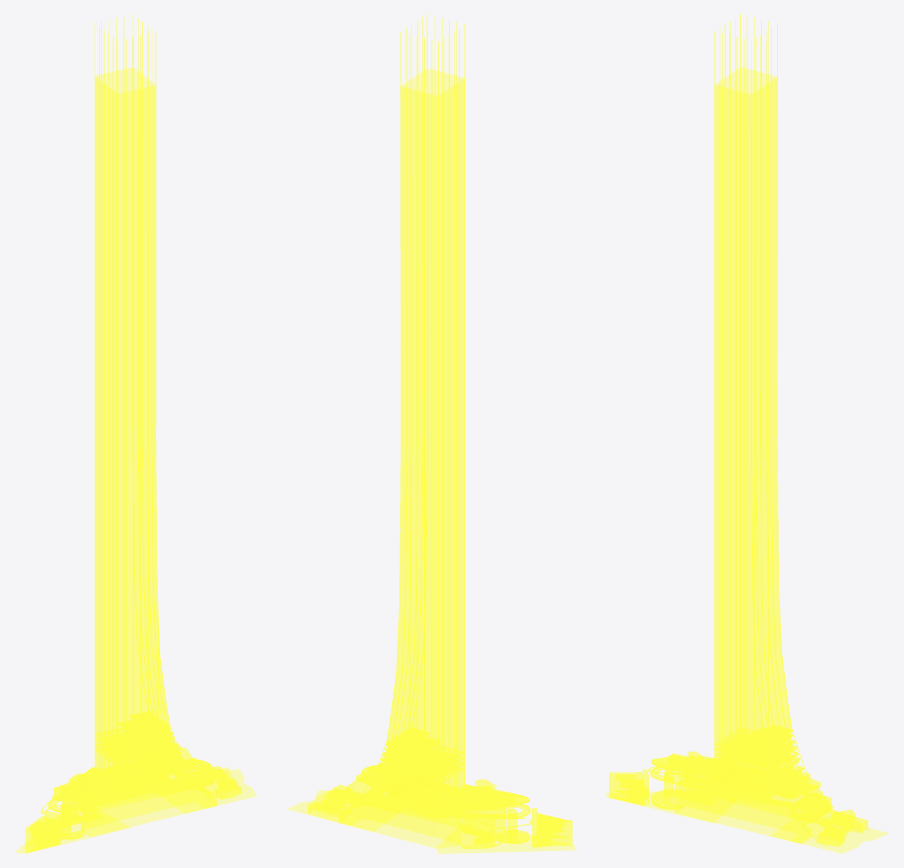
File: SennaTowerRetopo.glb
3 views of the same model, side by side, from view 1: azimuth 30°, elevation 25°; view 2: azimuth 150°, elevation 25°; view 3: azimuth 330°, elevation 25° (orthographic). The views are drawn at different scales.
Parts seen in each view (by area): view 1: Predio_Principal, GradesCurvadas, Cascada_Blocos, MD_Torre_Vigas, Chao, Chão_Topo, Kart, Final_Triangulo, Frente, Sacadas, Rampa; view 2: Predio_Principal, GradesCurvadas, Cascada_Blocos, MD_Torre_Vigas, Chao, Chão_Topo, Final_Triangulo, Kart, Frente, __6861174_.001, Rampa; view 3: Predio_Principal, GradesCurvadas, Cascada_Blocos, MD_Torre_Vigas, Chao, Chão_Topo, Kart, Final_Triangulo, Frente, MD_Torre_Floreiras, Sacadas, Rampa (+1 smaller).
Part boxes in pixels (box(x1,y1,x2,y2)): Predio_Principal: box(95, 67, 169, 794); GradesCurvadas: box(94, 14, 234, 797); Cascada_Blocos: box(80, 758, 216, 836); MD_Torre_Vigas: box(96, 712, 179, 767); Chao: box(15, 769, 256, 853); Chão_Topo: box(52, 767, 119, 807); Kart: box(49, 759, 211, 812); Final_Triangulo: box(25, 811, 61, 852); Frente: box(187, 764, 241, 799); Sacadas: box(149, 747, 197, 774); Rampa: box(60, 812, 102, 839); Predio_Principal: box(387, 68, 464, 813); GradesCurvadas: box(324, 14, 465, 814); Cascada_Blocos: box(339, 775, 505, 848); MD_Torre_Vigas: box(378, 727, 463, 786); Chao: box(287, 789, 575, 853); Chão_Topo: box(442, 784, 529, 813); Final_Triangulo: box(532, 808, 572, 847); Kart: box(362, 765, 529, 817); Frente: box(308, 785, 360, 822); __6861174_.001: box(462, 817, 495, 846); Rampa: box(464, 827, 529, 843); Predio_Principal: box(715, 67, 791, 798); GradesCurvadas: box(714, 14, 834, 846); Cascada_Blocos: box(674, 770, 837, 843); MD_Torre_Vigas: box(716, 725, 800, 776); Chao: box(605, 792, 888, 853); Chão_Topo: box(651, 755, 736, 785); Kart: box(651, 767, 815, 807); Final_Triangulo: box(609, 769, 649, 805); Frente: box(816, 809, 868, 846); MD_Torre_Floreiras: box(766, 730, 810, 785); Sacadas: box(764, 773, 821, 799); Rampa: box(651, 789, 717, 809).
Size of the model in its own units: 411 by 1212 by 117.
